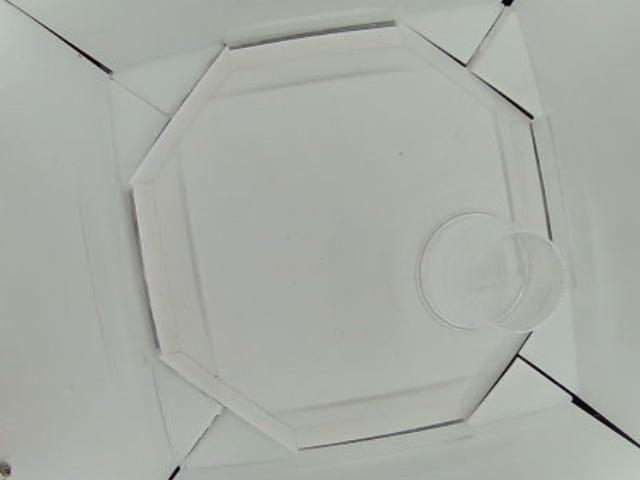Cup: (414, 211, 560, 333)
